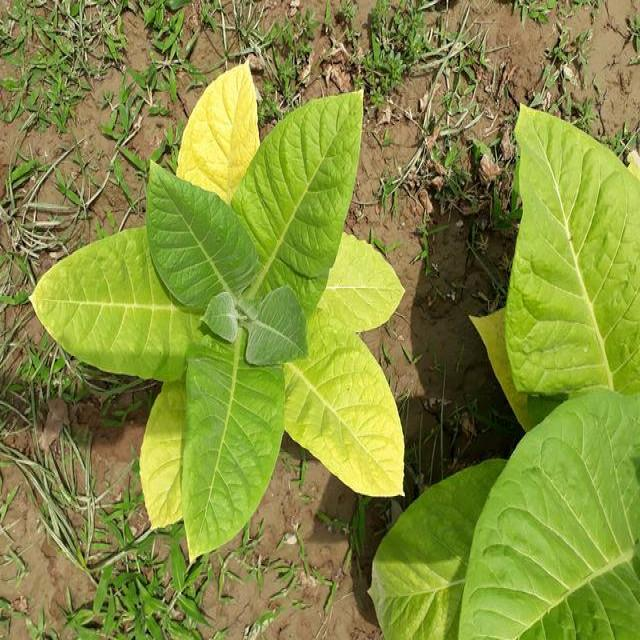crop: (39, 84, 414, 550), (444, 117, 639, 640), (382, 468, 624, 640)
